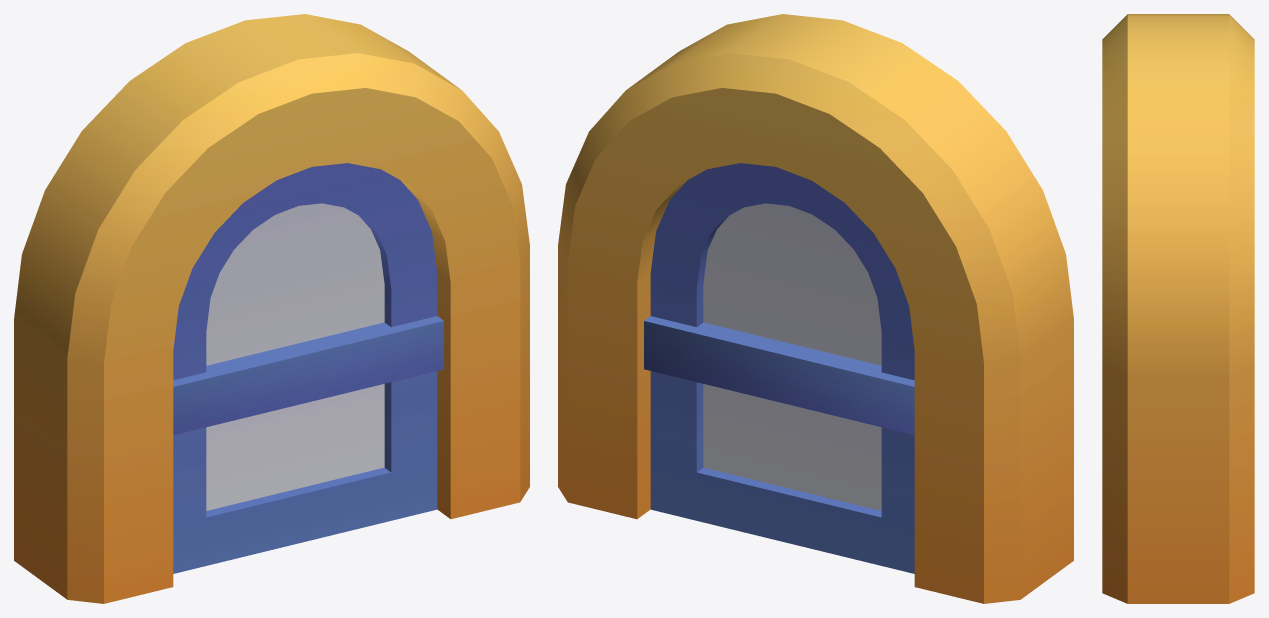
File: Door.glb
The picture shows the model from 3 angles, left to right: view 1: azimuth 30°, elevation 25°; view 2: azimuth 150°, elevation 25°; view 3: azimuth 270°, elevation 25°; orthographic projection. The views are drawn at different scales.
Parts seen in each view (by area): view 1: door-rotate-large, door; view 2: door-rotate-large, door; view 3: door-rotate-large.
Boxes of the visible parts, x1=… form: door-rotate-large: x1=14, y1=14, x2=529, y2=603; door: x1=173, y1=163, x2=443, y2=573; door-rotate-large: x1=558, y1=14, x2=1073, y2=603; door: x1=644, y1=163, x2=914, y2=573; door-rotate-large: x1=1102, y1=14, x2=1254, y2=603.
Size of the model in its own units: 1 by 1 by 0.3.
1 material, 1 textured.
